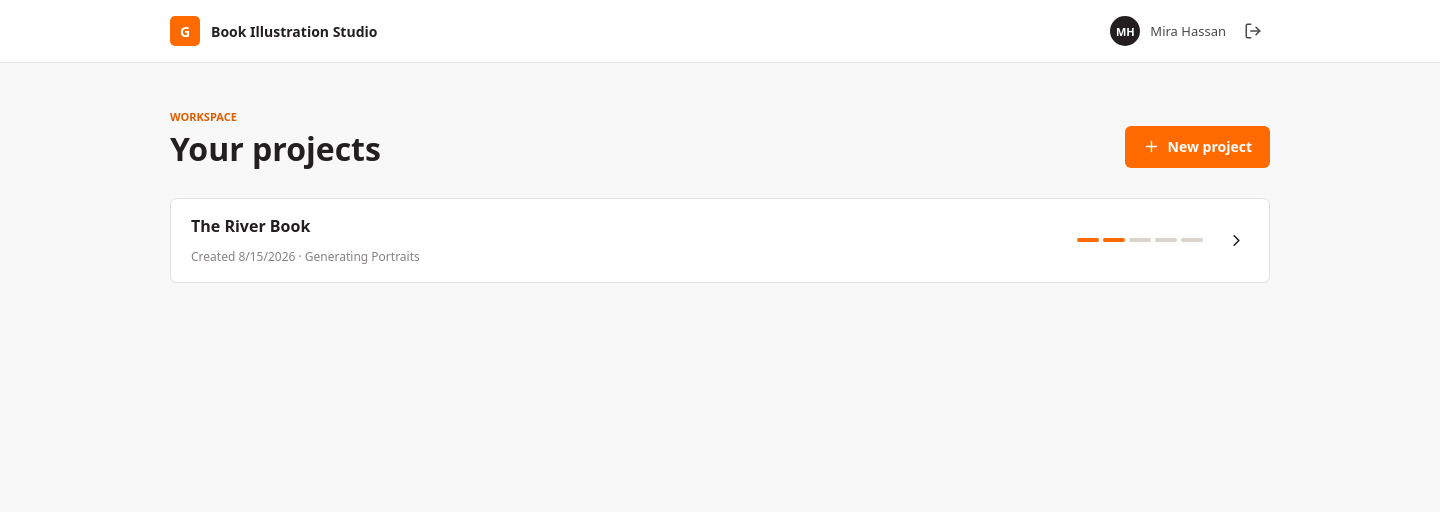
Test: App › names the pipeline step that is currently running
Click the button "The River Book Created 8/15/2026 · Generating Portraits" at [251, 226], box [170, 198, 1270, 283]
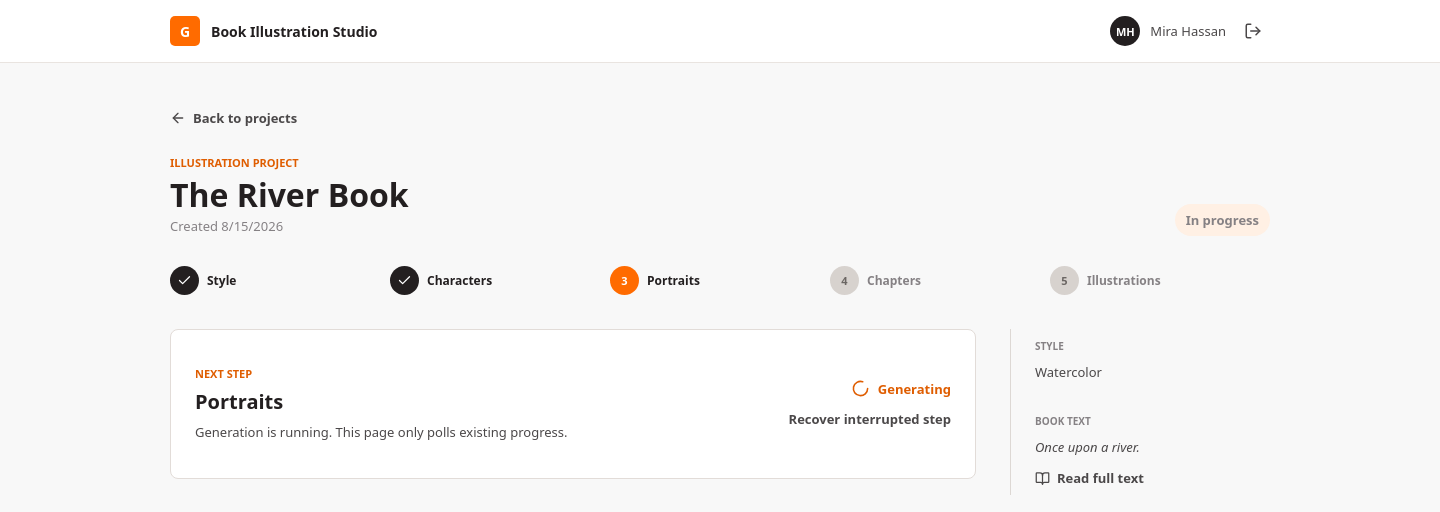
Expected: the text "Generating" is shown, [851, 379, 951, 398]
Expected: the heading "Portraits" is shown, [195, 388, 283, 415]
Expected: the text "Generation is running. This page only polls existing progress." is shown, [195, 423, 568, 441]
